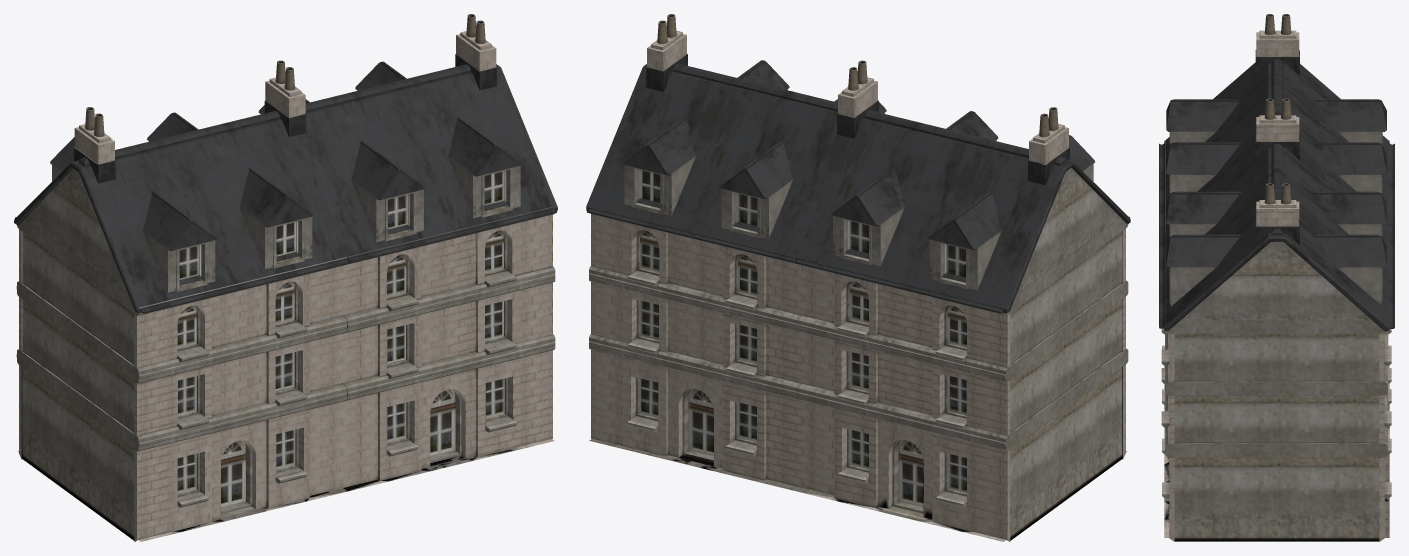
Rendered from bld22_20b.glb.
3 renders of one model, left to right at view 1: azimuth 30°, elevation 25°; view 2: azimuth 150°, elevation 25°; view 3: azimuth 270°, elevation 25°, orthographic. The views are drawn at different scales.
Visible parts, largest first — view 1: bld22_20b; view 2: bld22_20b; view 3: bld22_20b.
Boxes of the visible parts, left/top/right/bottom form: bld22_20b: left=14, top=14, right=557, bottom=541; bld22_20b: left=586, top=14, right=1130, bottom=541; bld22_20b: left=1159, top=14, right=1394, bottom=541.
Bounding box in the file's own units: 39.9 × 34.74 × 21.25.
Materials: 1 (1 with a texture image).
